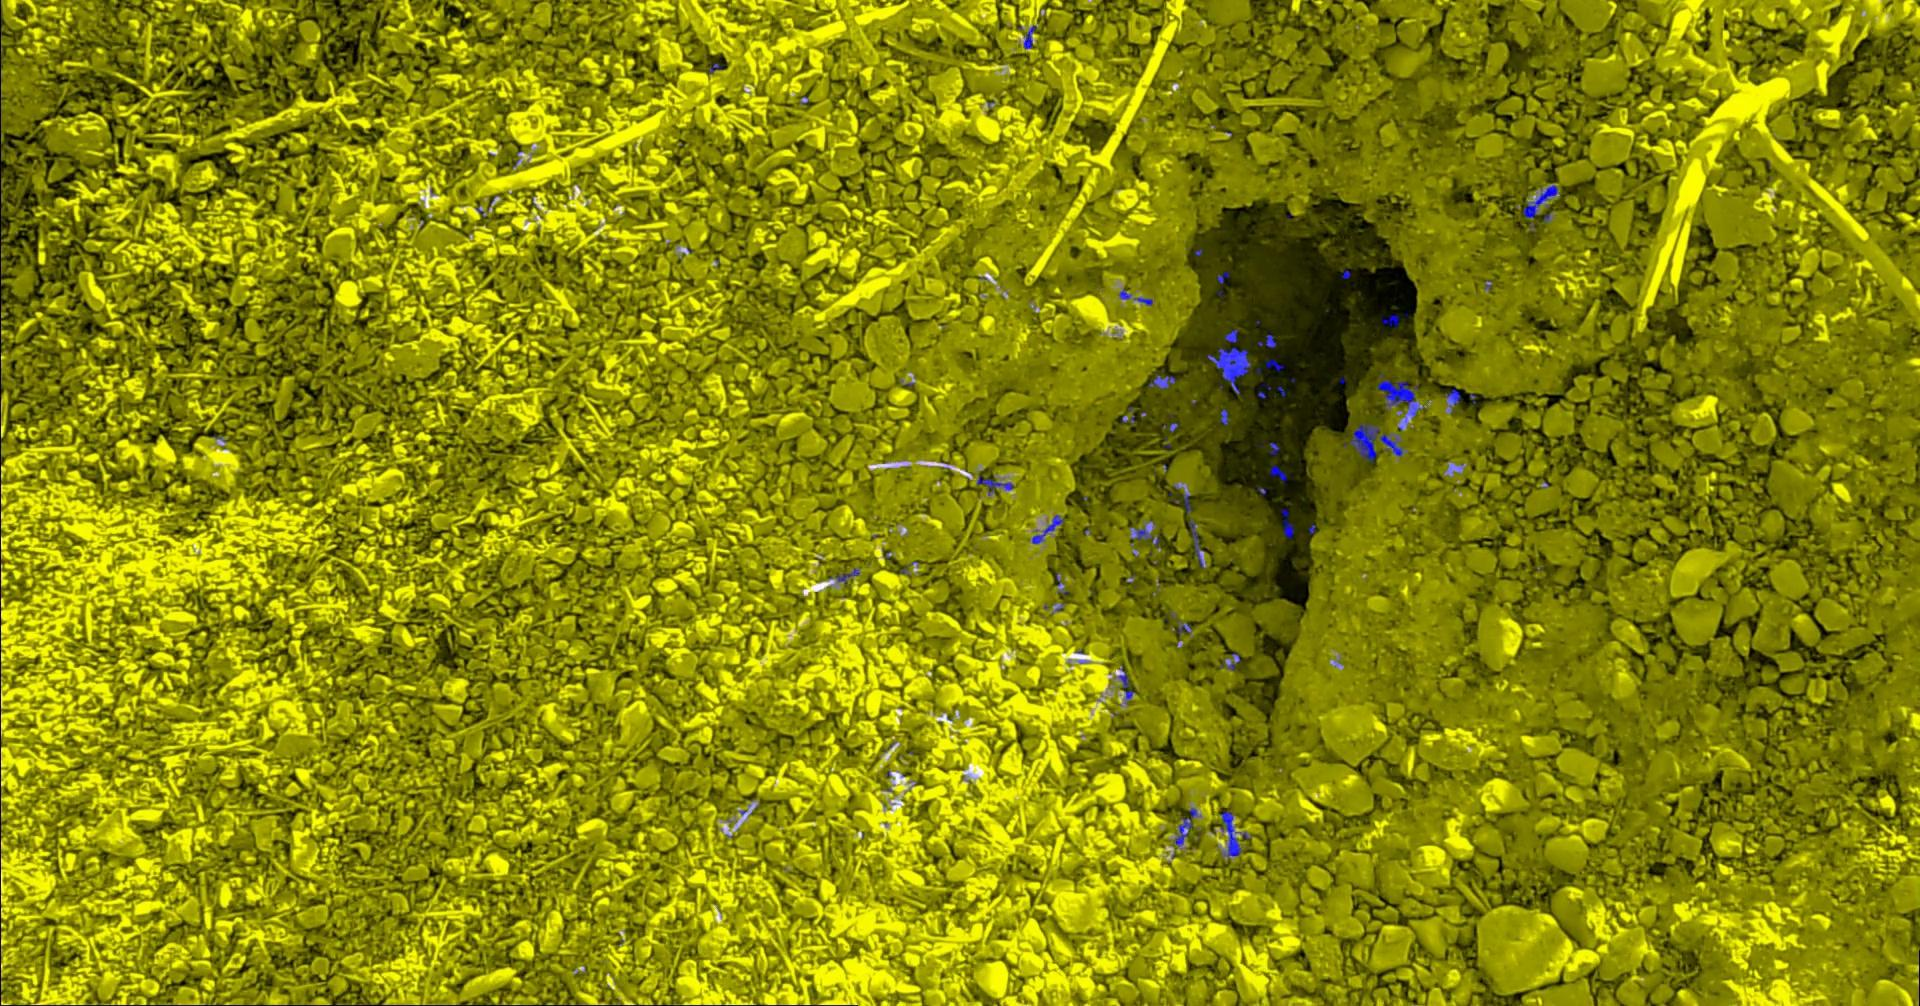ant: (1209, 328, 1252, 394), (1345, 423, 1408, 464), (1378, 373, 1423, 418), (1524, 184, 1559, 232), (1222, 810, 1251, 859), (1175, 807, 1199, 846), (1032, 514, 1065, 542), (978, 474, 1015, 495), (1191, 518, 1205, 567), (1131, 526, 1161, 547), (1120, 666, 1137, 702), (1120, 288, 1154, 305), (830, 567, 861, 584), (1446, 387, 1462, 413), (1283, 508, 1295, 539), (1222, 652, 1242, 671), (1150, 373, 1177, 387), (1271, 464, 1288, 481), (1025, 25, 1037, 48), (1258, 333, 1277, 348), (1175, 619, 1192, 634), (1121, 406, 1137, 423), (1383, 312, 1399, 326), (1267, 358, 1285, 371), (1183, 493, 1192, 513), (1222, 408, 1230, 424)
